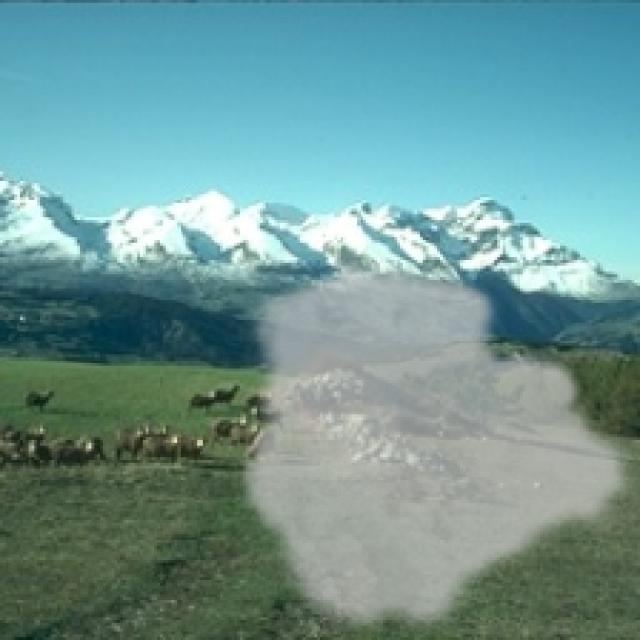smoke: (237, 260, 637, 637)
